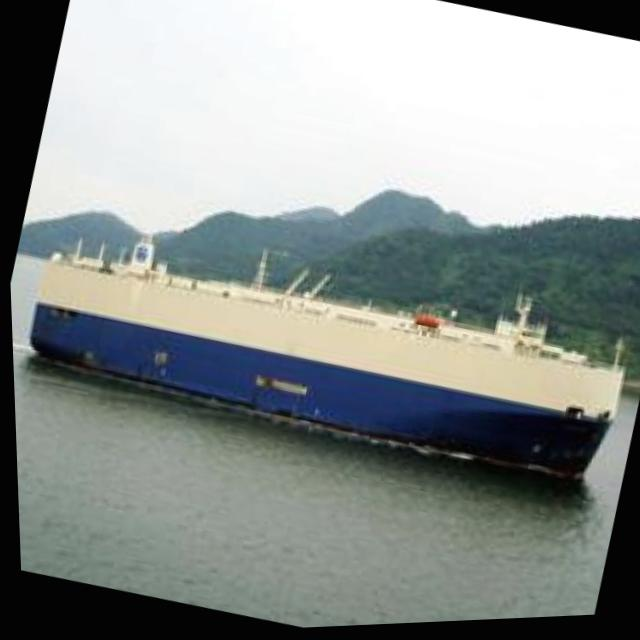ship2: (26, 235, 626, 484)
